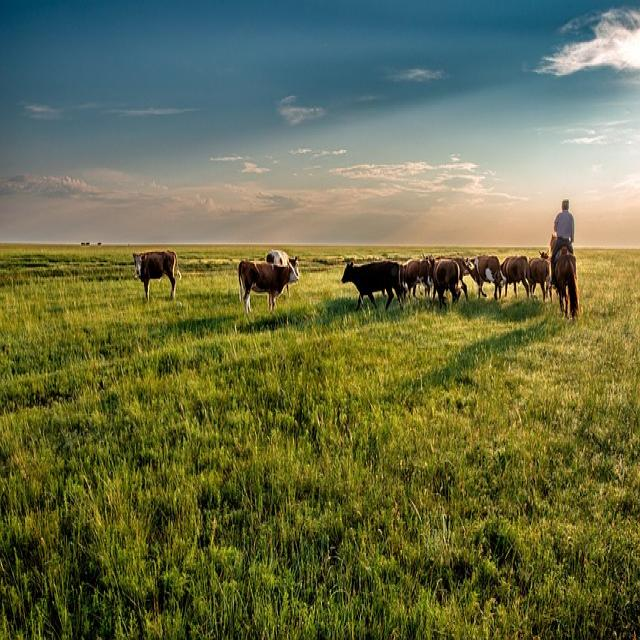Herbivorous: (236, 249, 299, 309), (339, 257, 409, 311), (133, 250, 176, 297)
